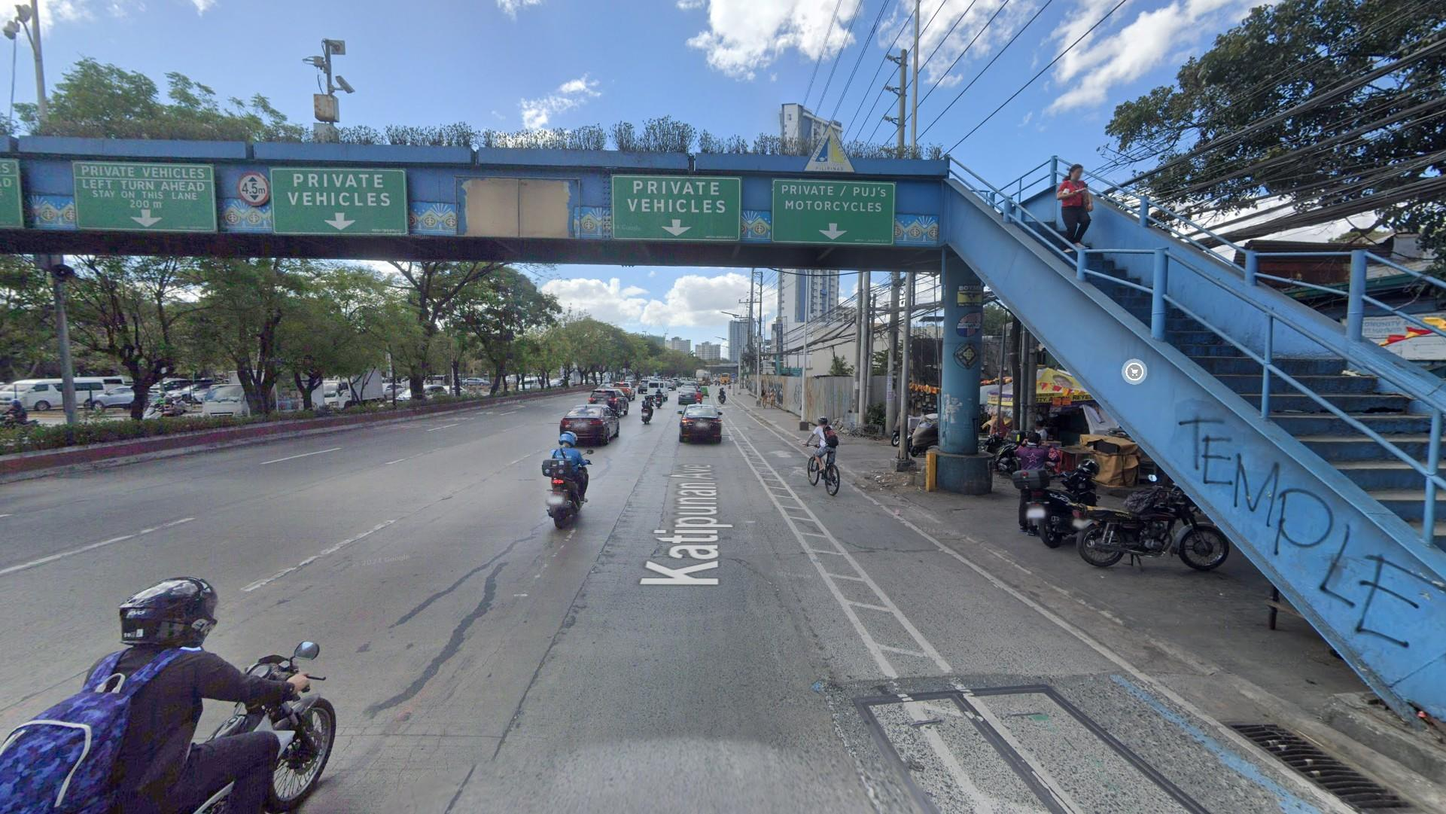cyclist: (801, 416, 840, 497)
pedestrian: (1058, 162, 1093, 254), (769, 389, 776, 410), (761, 389, 768, 409)
